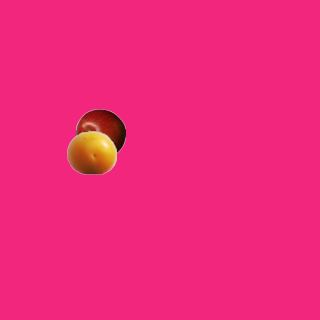Apple Braeburn: (75, 108, 125, 158)
Cherry Wax Yellow: (66, 127, 116, 177)
